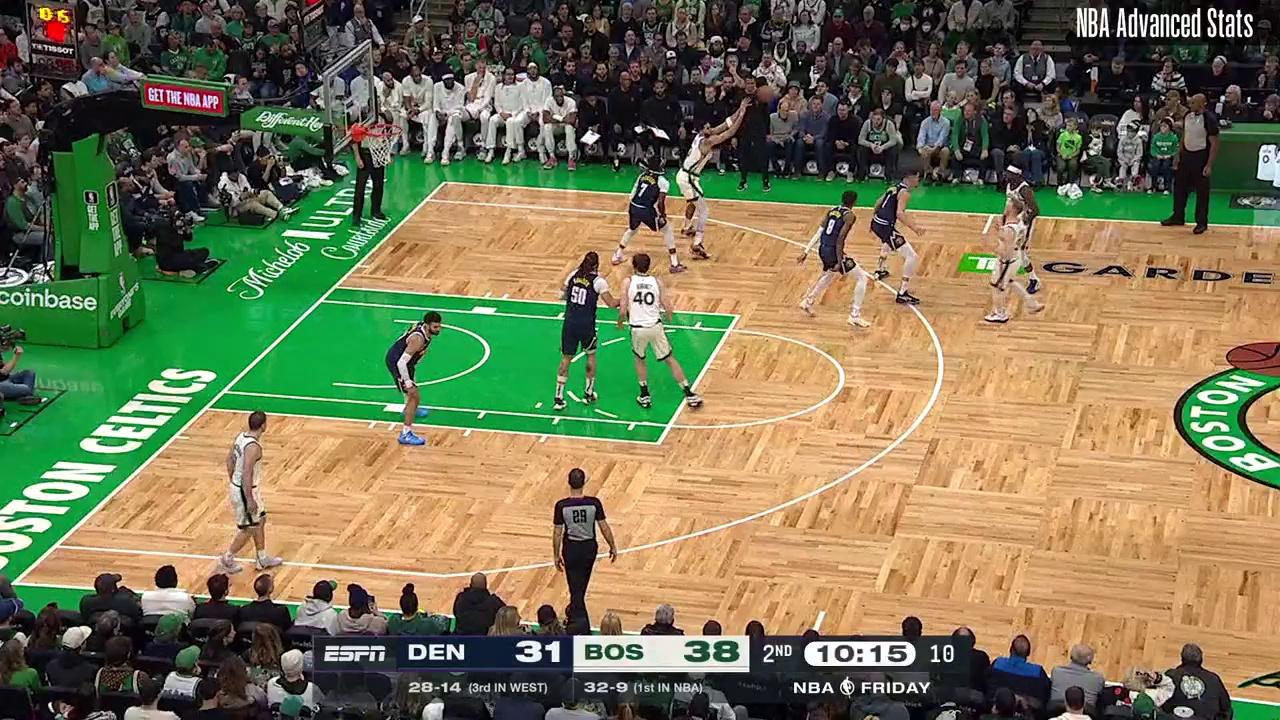3_dx: (421, 196, 431, 204)
3_sx: (49, 540, 62, 552)
b_dx: (439, 178, 450, 188)
free_adx: (732, 310, 745, 322)
free_asx: (653, 437, 665, 449)
free_bdx: (330, 281, 340, 293)
free_bsx: (200, 403, 211, 413)
half_dx: (8, 576, 23, 590)
mid_dx: (978, 228, 990, 240)
mid_sx: (817, 606, 829, 617)
referee: (549, 463, 619, 638), (1162, 92, 1223, 233), (350, 123, 393, 231)
team: (618, 254, 706, 411), (215, 408, 287, 571), (678, 118, 735, 259), (985, 203, 1041, 326), (993, 156, 1046, 283)
team1: (801, 189, 875, 331), (552, 252, 614, 406), (609, 156, 690, 272), (388, 310, 449, 448), (872, 169, 932, 302)
timer: (805, 626, 913, 670)
